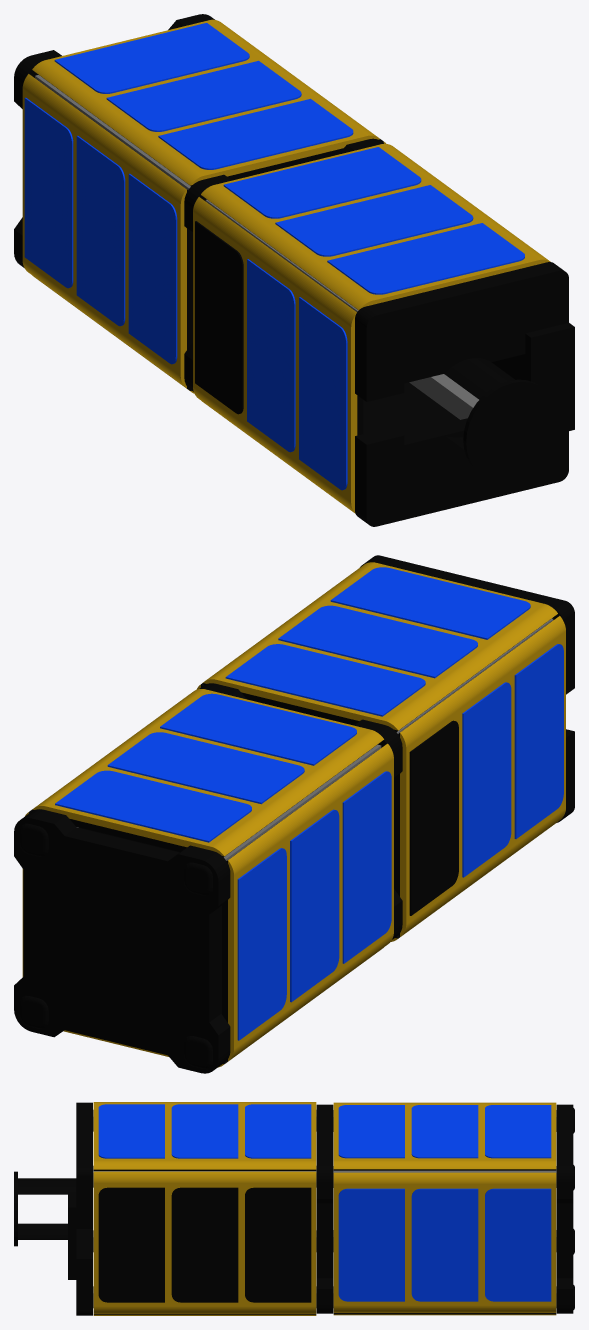
File: spacecraft.obj
3 views of the same model, one above another, from view 1: azimuth 30°, elevation 25°; view 2: azimuth 150°, elevation 25°; view 3: azimuth 270°, elevation 25° (orthographic). The views are drawn at different scales.
Parts seen in each view (by area): view 1: scobj; view 2: scobj; view 3: scobj.
Part boxes in pixels (box(x1,y1,x2,y2)): scobj: box(14, 14, 574, 526); scobj: box(14, 555, 574, 1073); scobj: box(14, 1102, 574, 1315).
Bounding box in the file's own units: 0.1037 × 0.1036 × 0.3373.
